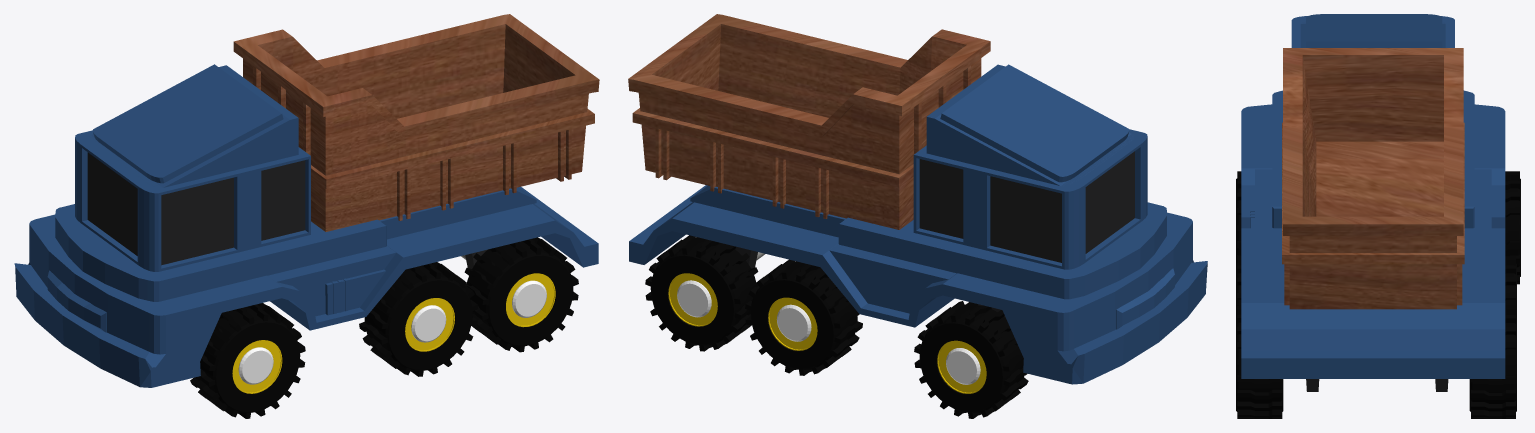
The model's file is Toy_Truck.glb.
3 views of the same model, side by side, from view 1: azimuth 30°, elevation 25°; view 2: azimuth 150°, elevation 25°; view 3: azimuth 270°, elevation 25° (orthographic).
Parts seen in each view (by area): view 1: Truck Toy body, Truck Toy load, R R 1, R R, F R; view 2: Truck Toy body, Truck Toy load, F L, R L 1, R L; view 3: Truck Toy load, Truck Toy body, R L 1, R R 1, F L, R L, F R, R R.
Part boxes in pixels (left/top/right/bottom): Truck Toy body: left=14, top=64, right=598, bottom=387; Truck Toy load: left=233, top=14, right=599, bottom=231; R R 1: left=464, top=237, right=578, bottom=352; R R: left=359, top=262, right=478, bottom=376; F R: left=190, top=303, right=305, bottom=418; Truck Toy body: left=629, top=64, right=1207, bottom=384; Truck Toy load: left=628, top=14, right=990, bottom=229; F L: left=914, top=301, right=1028, bottom=418; R L 1: left=645, top=235, right=758, bottom=351; R L: left=745, top=259, right=862, bottom=375; Truck Toy load: left=1282, top=48, right=1464, bottom=309; Truck Toy body: left=1241, top=14, right=1505, bottom=391; R L 1: left=1469, top=306, right=1516, bottom=418; R R 1: left=1236, top=306, right=1283, bottom=418; F L: left=1505, top=171, right=1520, bottom=284; R L: left=1505, top=256, right=1516, bottom=313; F R: left=1236, top=171, right=1241, bottom=263; R R: left=1236, top=256, right=1241, bottom=313.
Size of the model in its own units: 12.52 by 6.62 by 6.22.
Materials: 3 (3 with a texture image).
